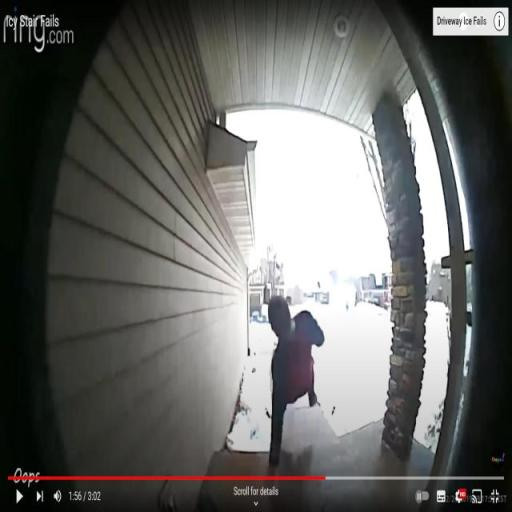Fall: (263, 291, 327, 486)
